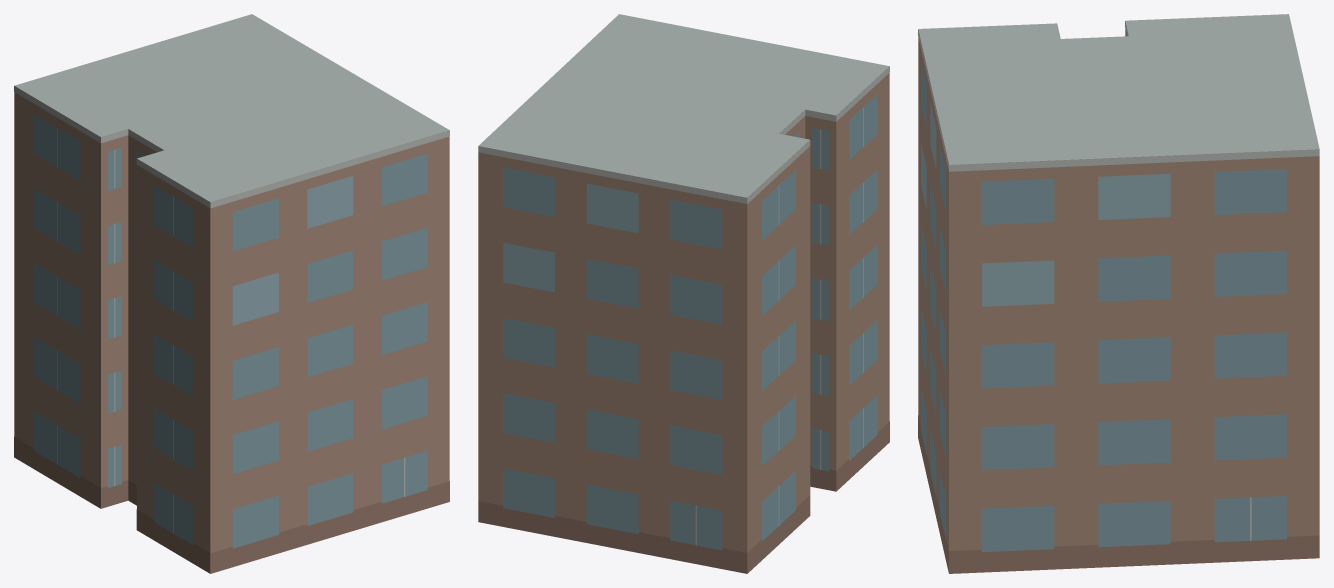
Rendered from survey-upis-32950528.glb.
The picture shows the model from 3 angles, left to right: view 1: azimuth 30°, elevation 25°; view 2: azimuth 150°, elevation 25°; view 3: azimuth 270°, elevation 25°; orthographic projection. The views are drawn at different scales.
Parts seen in each view (by area): view 1: survey-upis-32950528.tmp; view 2: survey-upis-32950528.tmp; view 3: survey-upis-32950528.tmp.
Part boxes in pixels (x1=…): survey-upis-32950528.tmp: x1=14, y1=14, x2=449, y2=573; survey-upis-32950528.tmp: x1=478, y1=14, x2=889, y2=573; survey-upis-32950528.tmp: x1=918, y1=14, x2=1319, y2=573.
Size of the model in its own units: 11.55 by 14.58 by 12.99.
